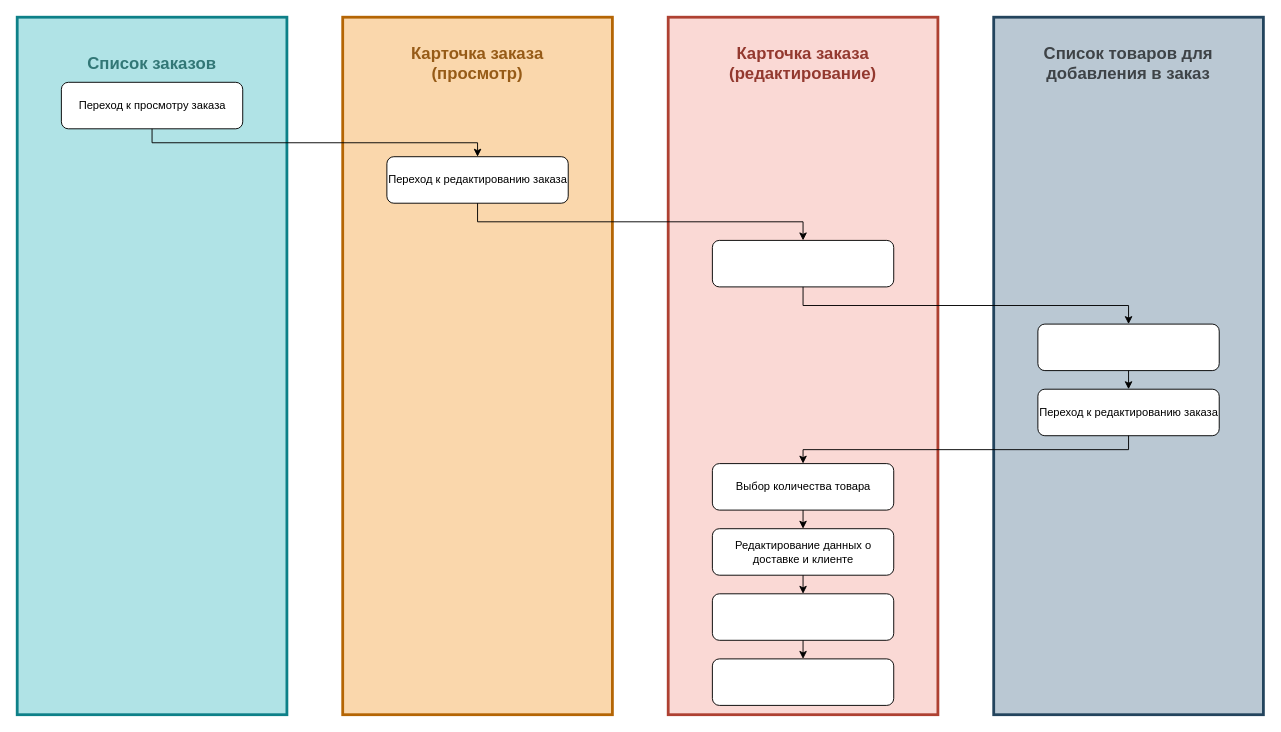
Image size: 1281x732. Some labels were removed from this diagram. The centre of each missing label's shape, as x and y in pixels:
"Добавление товаров в заказ" goes at point 1128,347.
"Переход к добавлению товаров в заказ" goes at point 802,263.
"Переход к списку всех заказов" goes at point 802,681.
"Сохранение заказа" goes at point 802,616.
